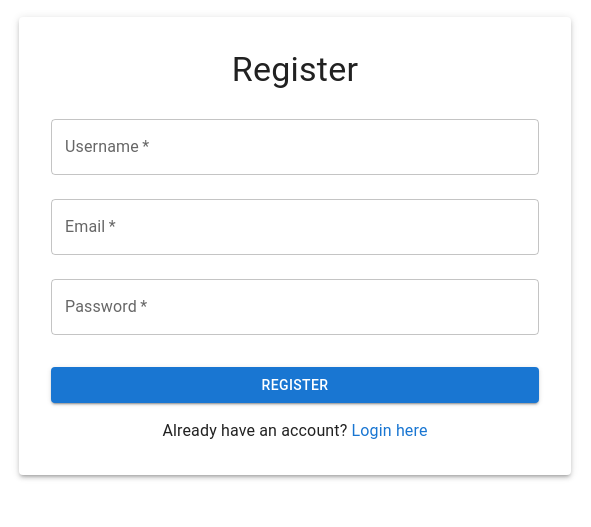
Scenario: Register Component › handles registration failure - username exists
The image size is (591, 527).
# Fill out the form
Type "existinguser" into the field labelled "Username *".
click(295, 147); type("existinguser")  # box [51,119,539,175]
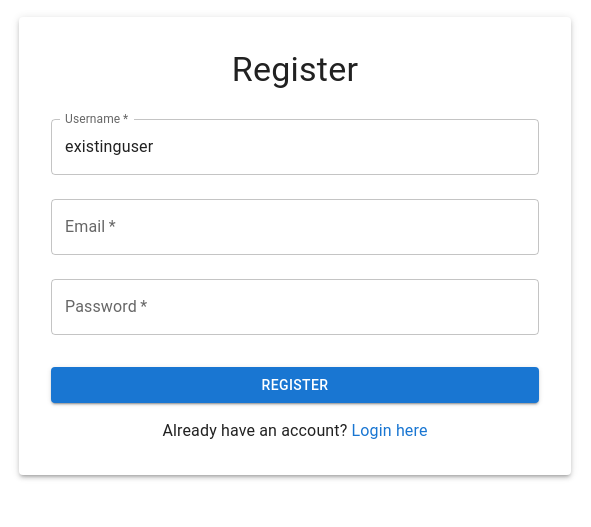
Type "user@example.com" into the field labelled "Email *".
click(295, 227); type("user@example.com")  # box [51,199,539,255]
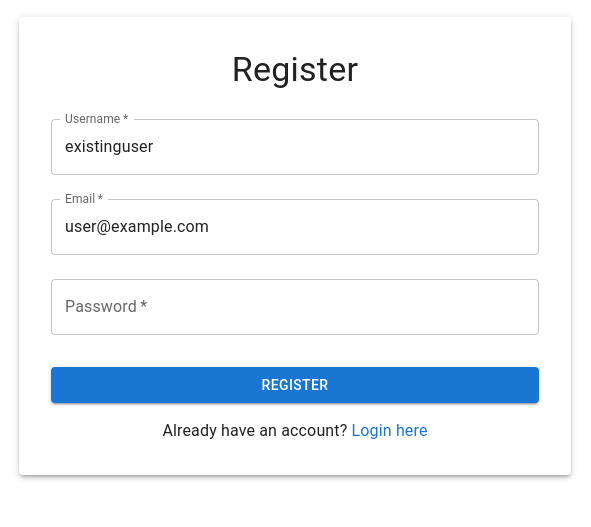
Type "password123" into the password field labelled "Password *".
click(295, 307); type("password123")  # box [51,279,539,335]
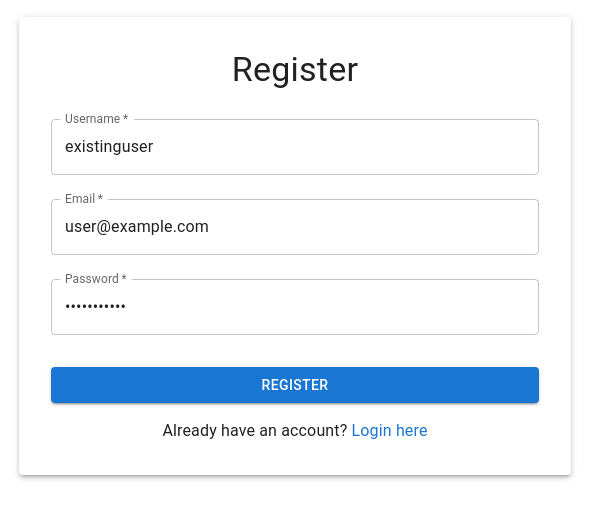
# Submit the form
Click the button "REGISTER".
click(295, 385)  # box [51,367,539,403]
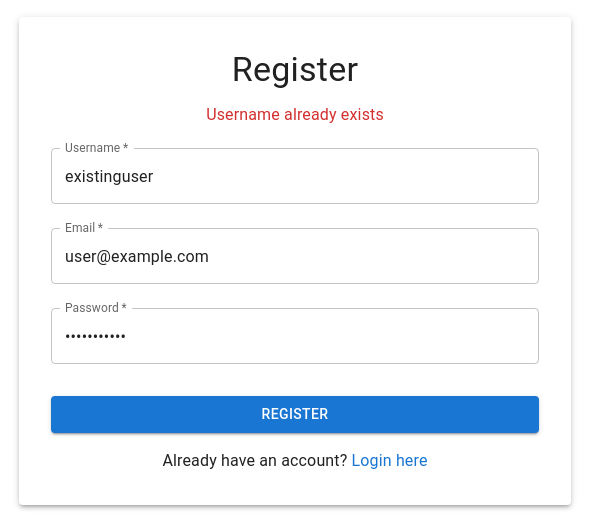
Check: the text "Username already exists" is shown, box [206,105,384,124]
